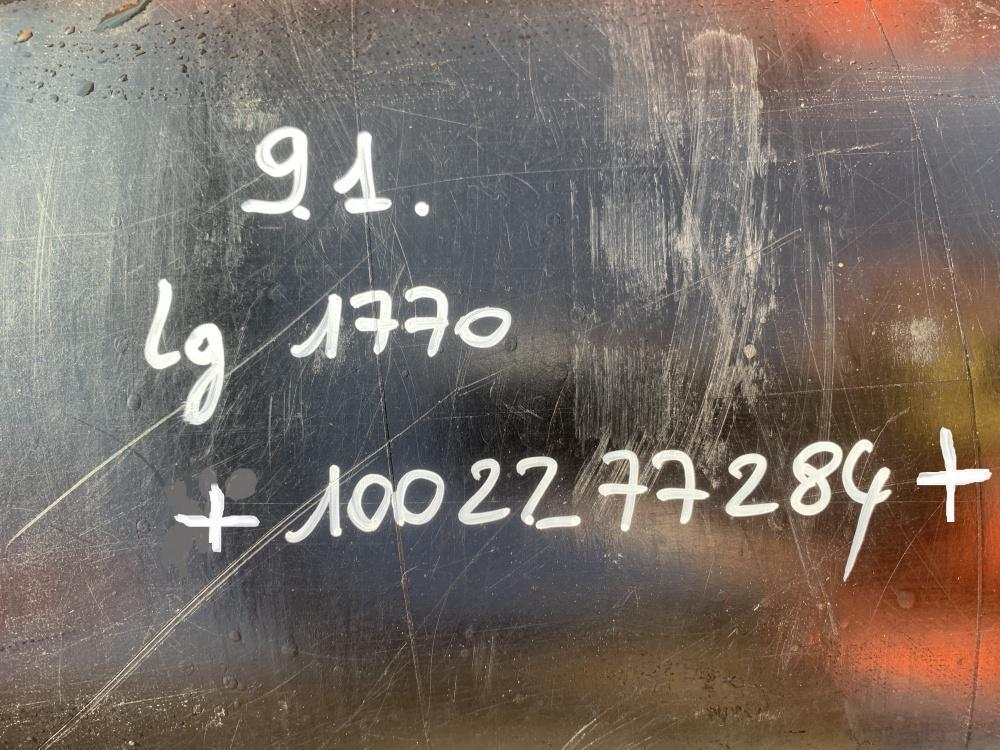+: (916, 424, 992, 528), (172, 479, 261, 555)
0: (393, 470, 446, 530), (345, 472, 391, 540), (456, 306, 518, 350)
1: (285, 465, 346, 549), (337, 130, 393, 218), (290, 292, 344, 364)
2: (518, 453, 580, 532), (459, 458, 513, 530), (727, 452, 778, 521)
4: (842, 435, 893, 580)
7: (652, 448, 709, 526), (600, 448, 650, 534), (347, 280, 400, 358), (406, 285, 452, 362)
8: (792, 434, 840, 518)
9: (247, 125, 315, 227)
